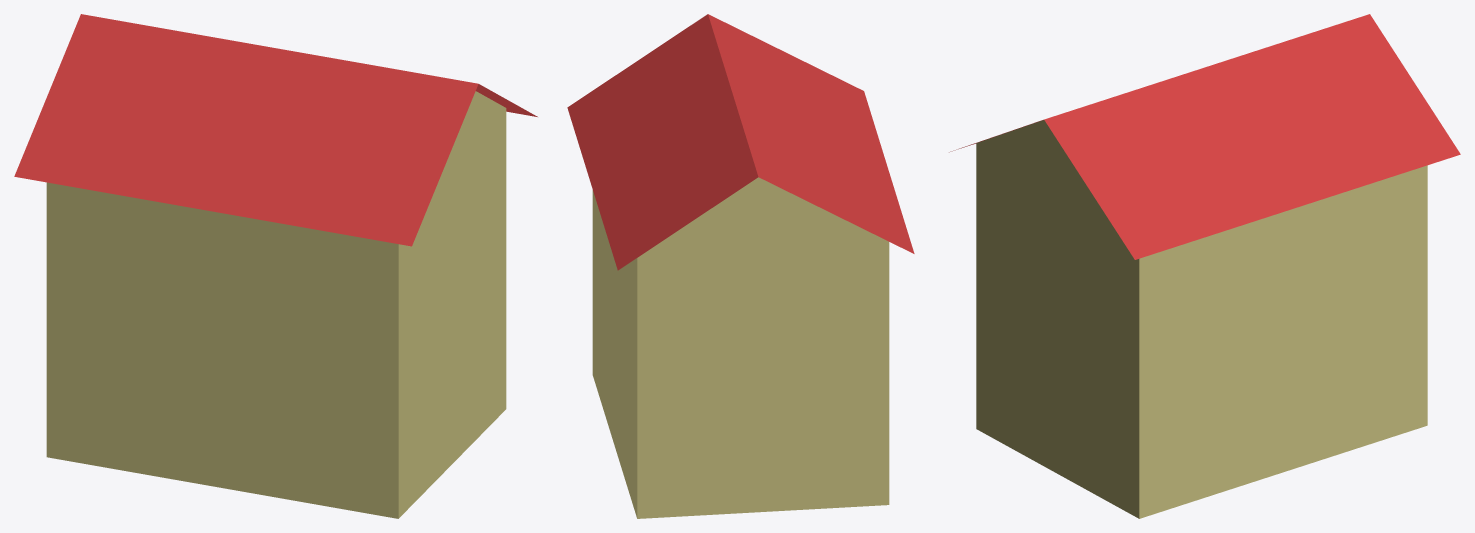
3 renders of one model, left to right at view 1: azimuth 30°, elevation 25°; view 2: azimuth 150°, elevation 25°; view 3: azimuth 270°, elevation 25°, orthographic. The views are drawn at different scales.
Size of the model in its own units: 10.54 by 10.91 by 8.45.
